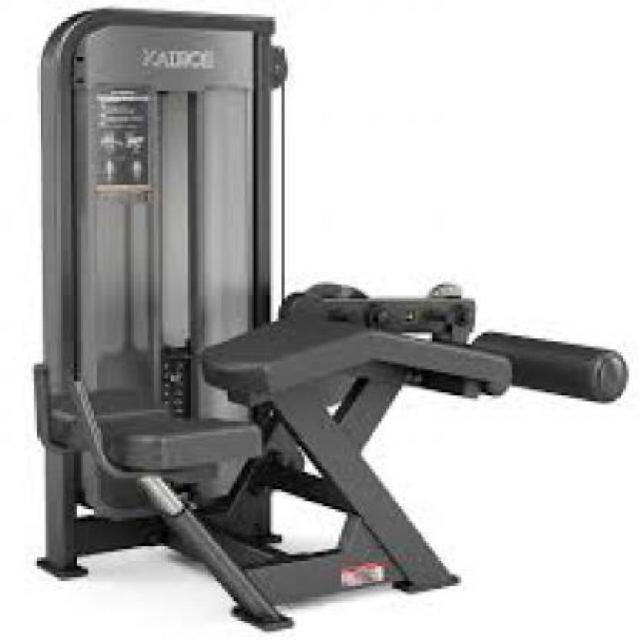reg curl machine: (28, 8, 630, 632)
